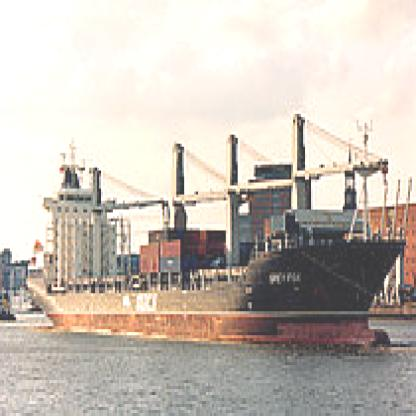Tanker: (24, 156, 412, 371)
